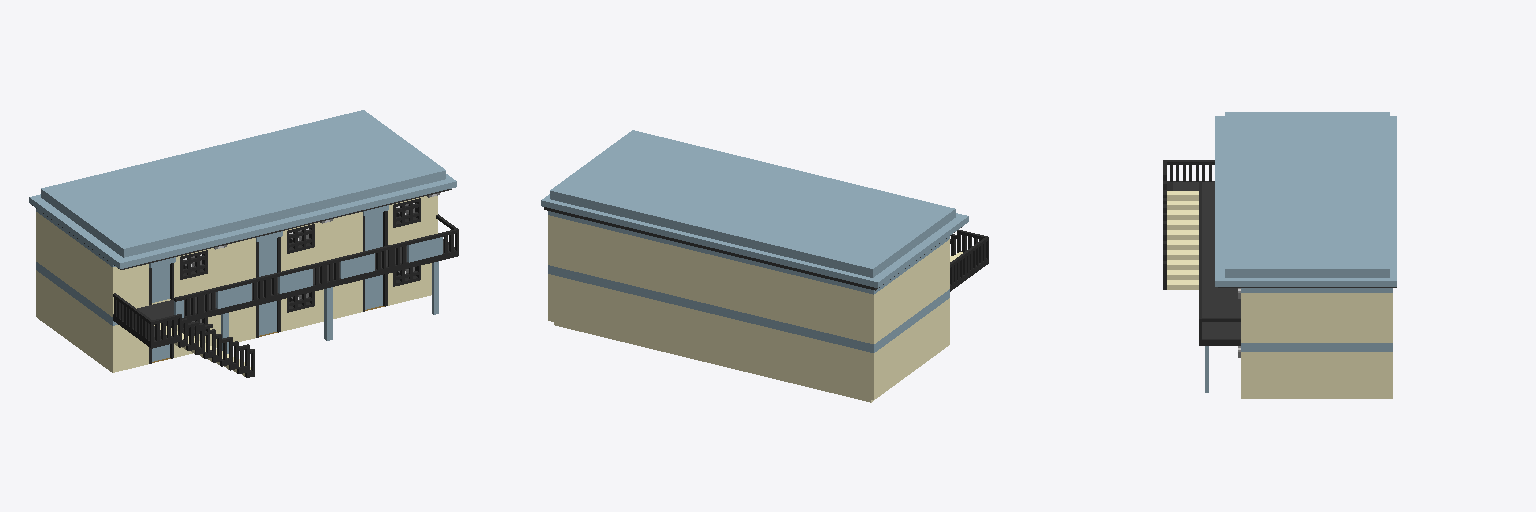
3 renders of one model, left to right at view 1: azimuth 30°, elevation 25°; view 2: azimuth 150°, elevation 25°; view 3: azimuth 270°, elevation 25°, orthographic.
Visible parts, largest first — view 1: rentals; view 2: rentals; view 3: rentals.
Boxes of the visible parts, box(x1,y1,x2,y2) form: rentals: box(29, 110, 458, 377); rentals: box(541, 130, 988, 402); rentals: box(1163, 112, 1396, 398).
Size of the model in its own units: 120 by 45 by 72.
1 materials, 1 textured.